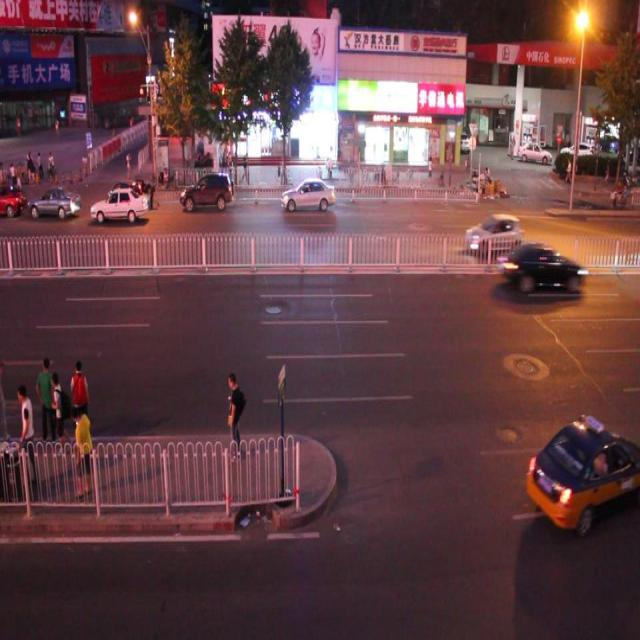car: (523, 417, 640, 530), (494, 238, 586, 297), (463, 210, 524, 258), (179, 169, 234, 211), (27, 183, 82, 224), (282, 175, 335, 215), (89, 188, 149, 222), (101, 180, 145, 223)
